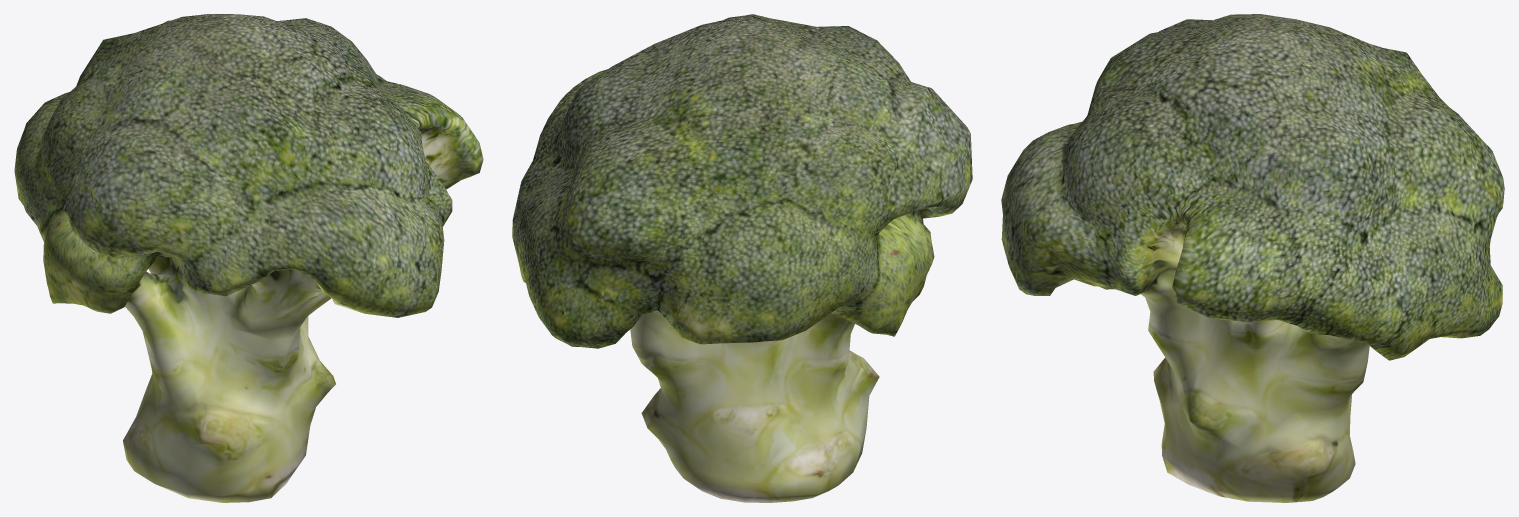
File: Broccoli.fbx
3 views of the same model, side by side, from view 1: azimuth 30°, elevation 25°; view 2: azimuth 150°, elevation 25°; view 3: azimuth 270°, elevation 25° (orthographic). The views are drawn at different scales.
Visible parts, largest first — view 1: Broccoli; view 2: Broccoli; view 3: Broccoli.
Boxes of the visible parts, x1,y1,x2,y2 form: Broccoli: (14, 14, 483, 502); Broccoli: (512, 14, 972, 502); Broccoli: (1001, 14, 1504, 502).
Size of the model in its own units: 11.91 by 12.46 by 12.66.
